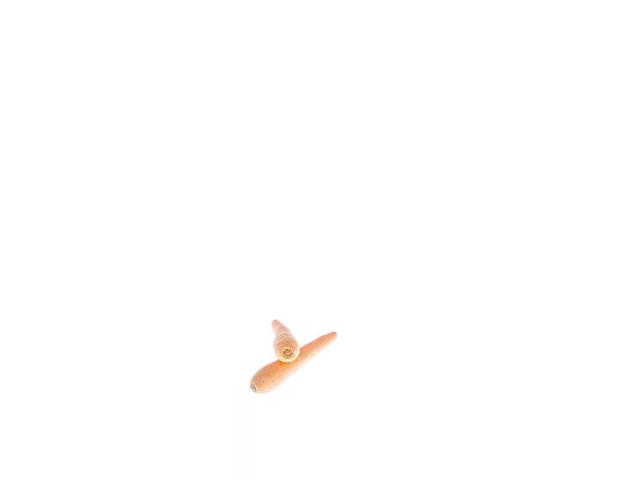carrot: (266, 317, 300, 365)
